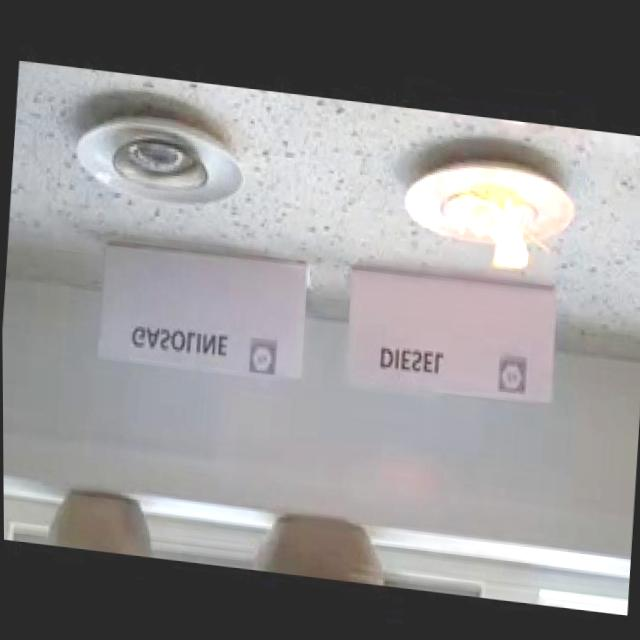helmet: (444, 179, 532, 276)
